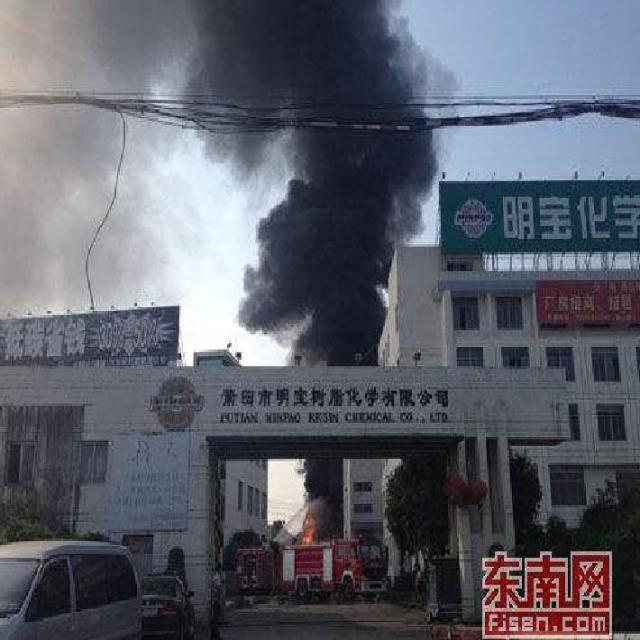fire: (300, 513, 316, 542)
smoke: (1, 0, 434, 367), (302, 452, 341, 528)
